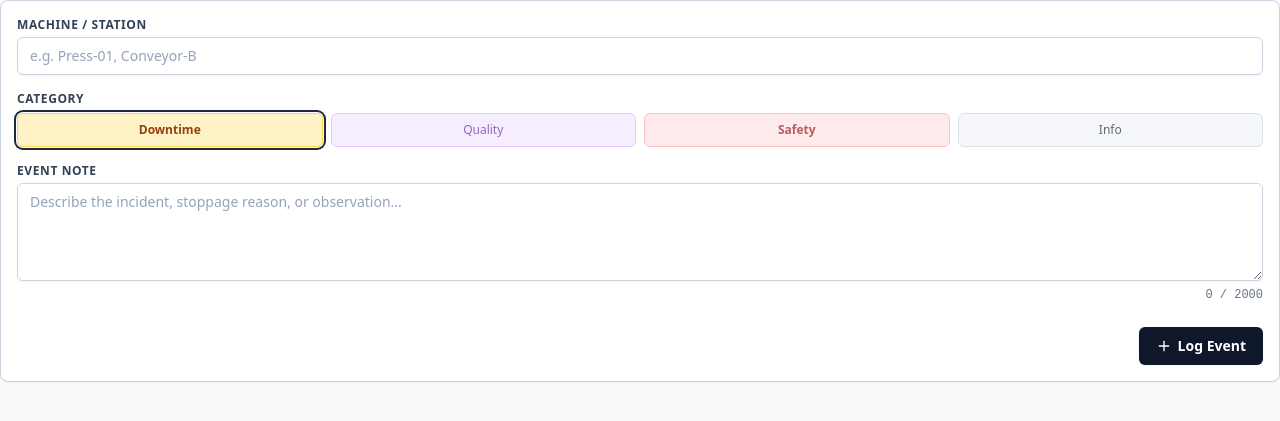
Scenario: EventForm Component › Client-Side Form Validation › clears inline validation errors as user types into the fields
Click the button "Log Event" at (1201, 346), box [1139,327,1263,365]
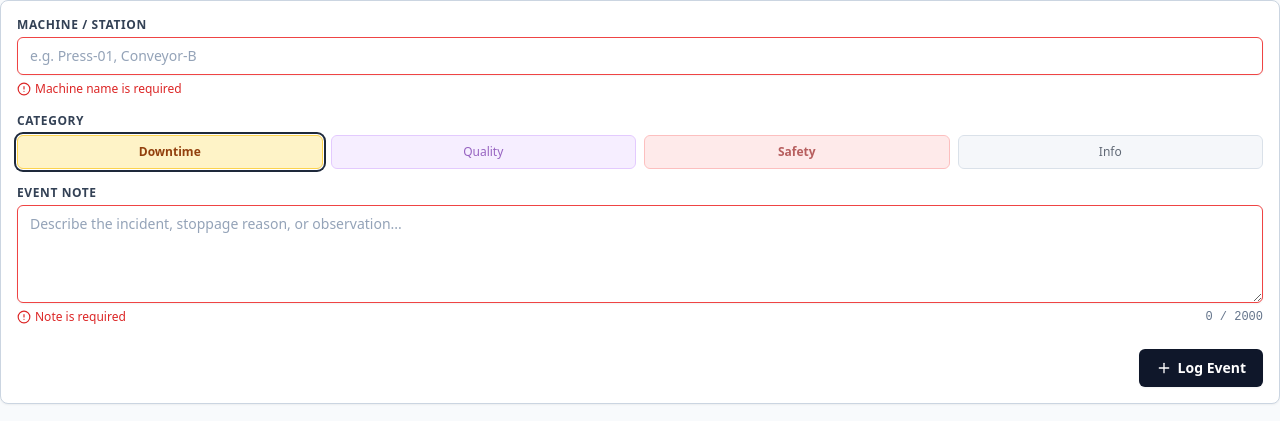
Result: the text "Machine name is required" is shown at [17,80,182,97]
Result: the text "Note is required" is shown at [17,309,126,325]
Type "P" into the field labelled "Machine / Station" at (640, 56), box [17,37,1263,75]
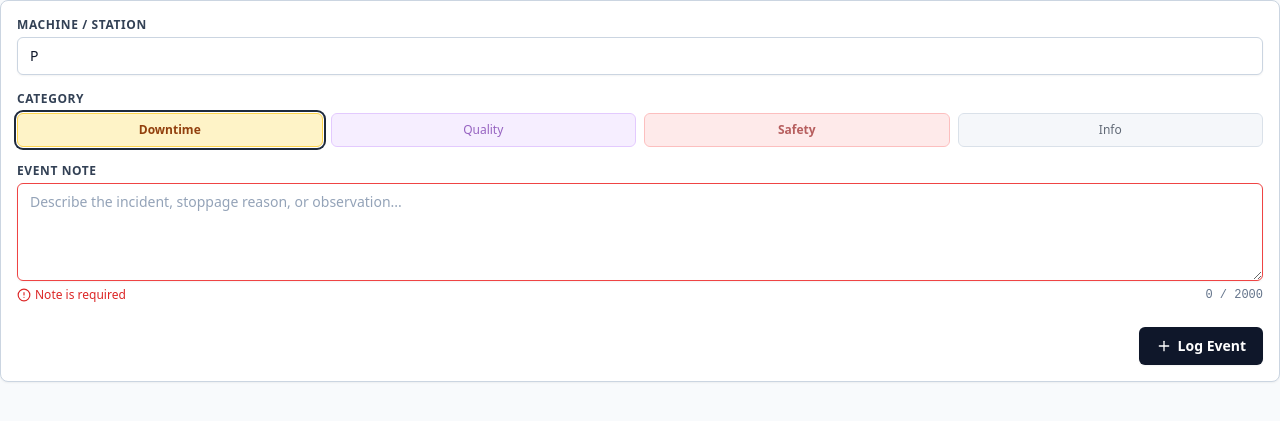
Result: the text "Machine name is required" is gone
Type "N" into the text box labelled "Event Note" at (640, 232), box [17,183,1263,281]
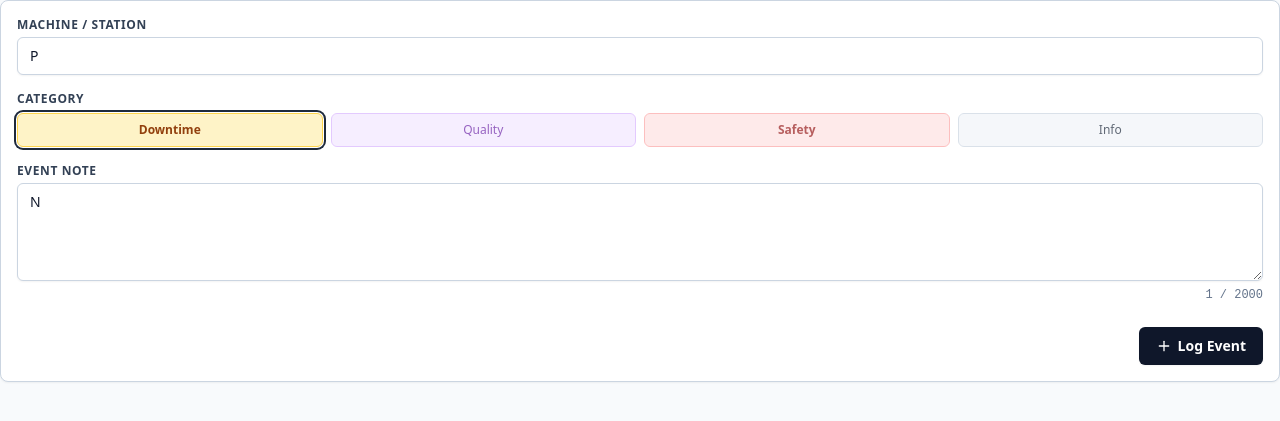
Result: the text "Note is required" is gone
